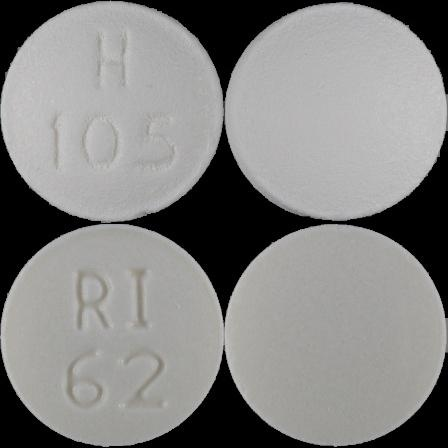68788-9307: (0, 0, 224, 224)
